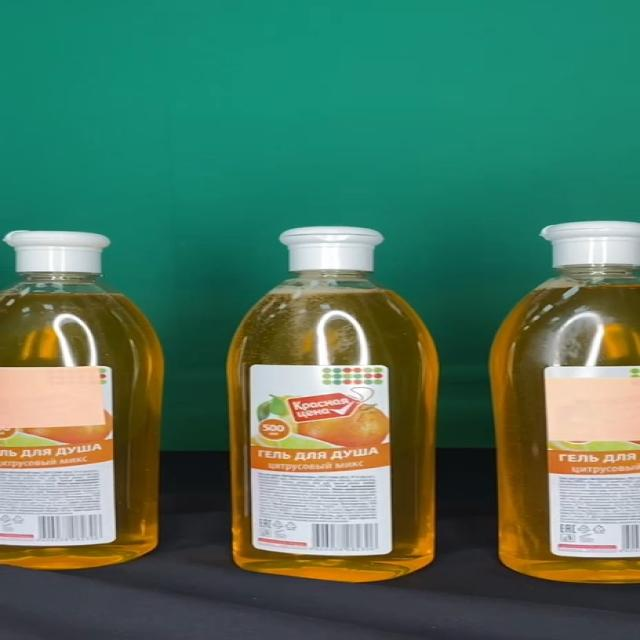Bottle: (227, 226, 439, 583), (0, 230, 164, 569)
Cap: (280, 226, 383, 270), (5, 231, 110, 274)
